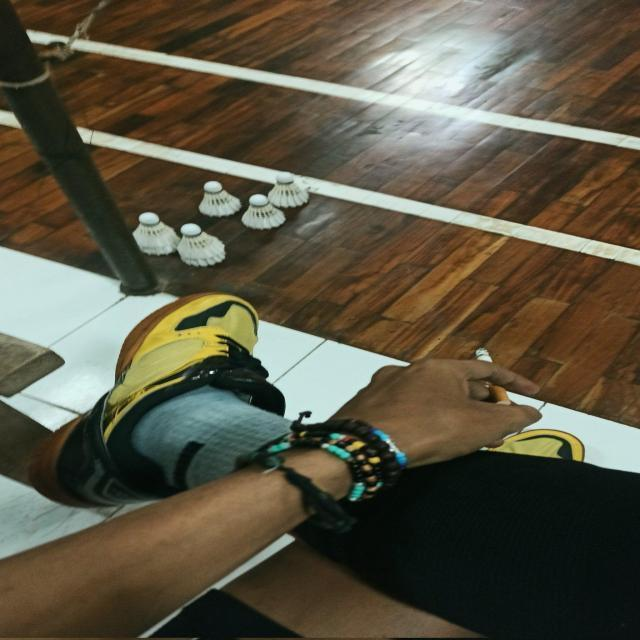rokok: (472, 344, 516, 408)
